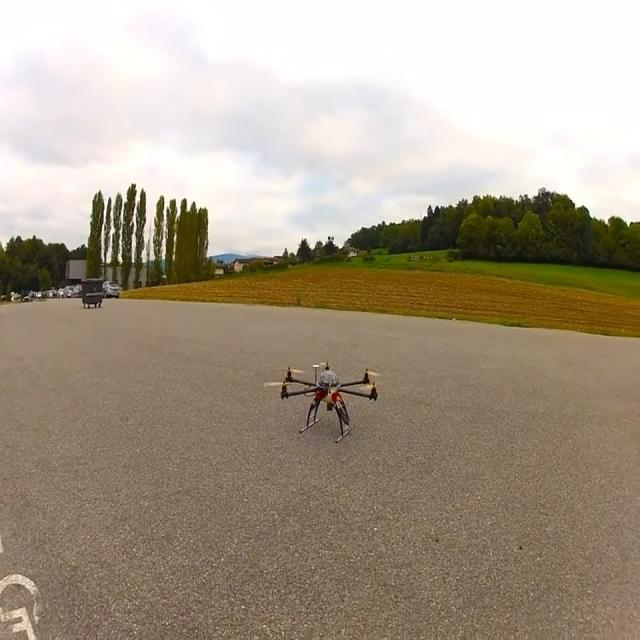drone: (279, 360, 380, 444)
